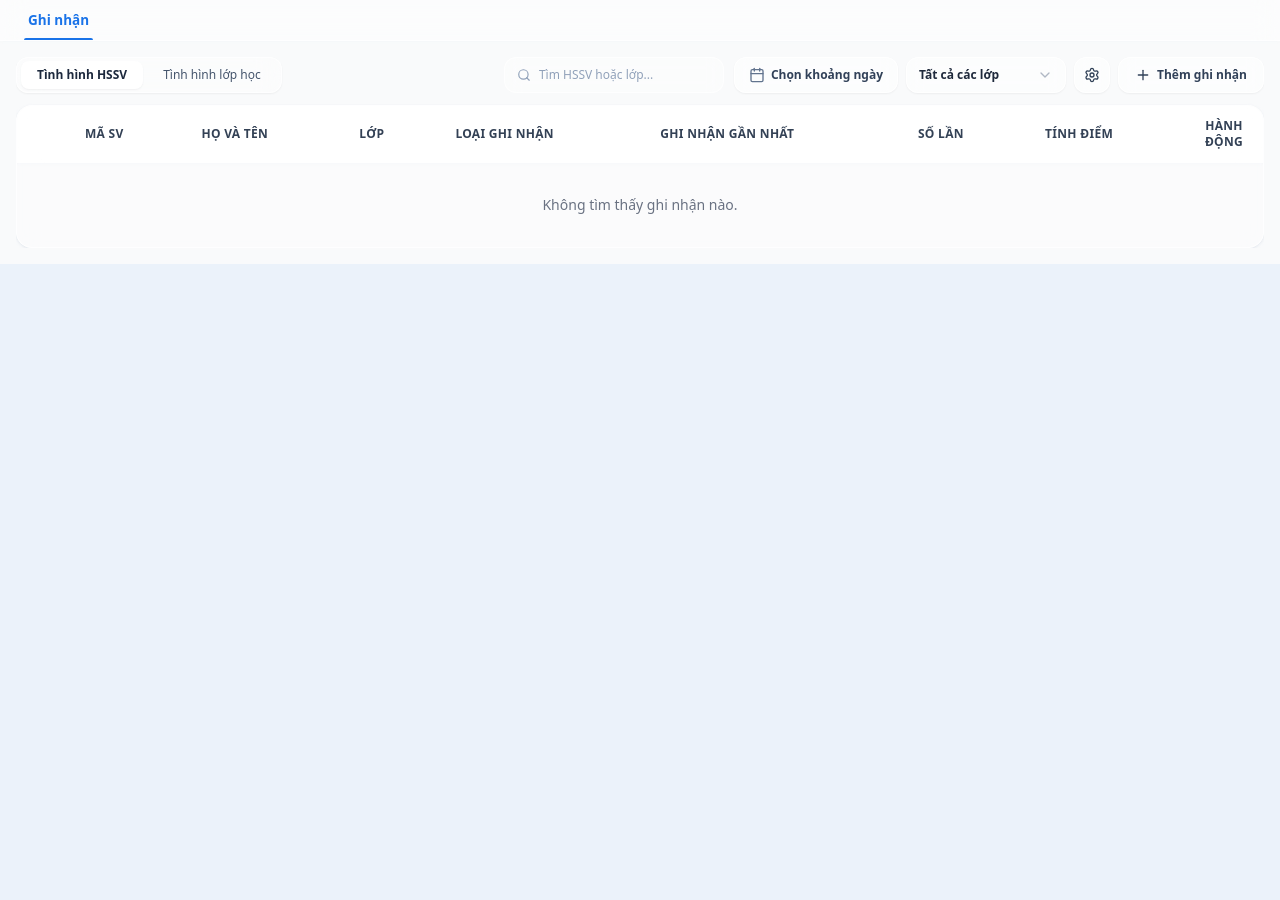
Scenario: StudentRecordPage Infinite Scroll › does not render the purge utility in the configuration modal
This screenshot has width=1280, height=900.
Click the button titled "Cấu hình tiêu chí vắng mặt": x=1092, y=75 [1074,57,1110,93]
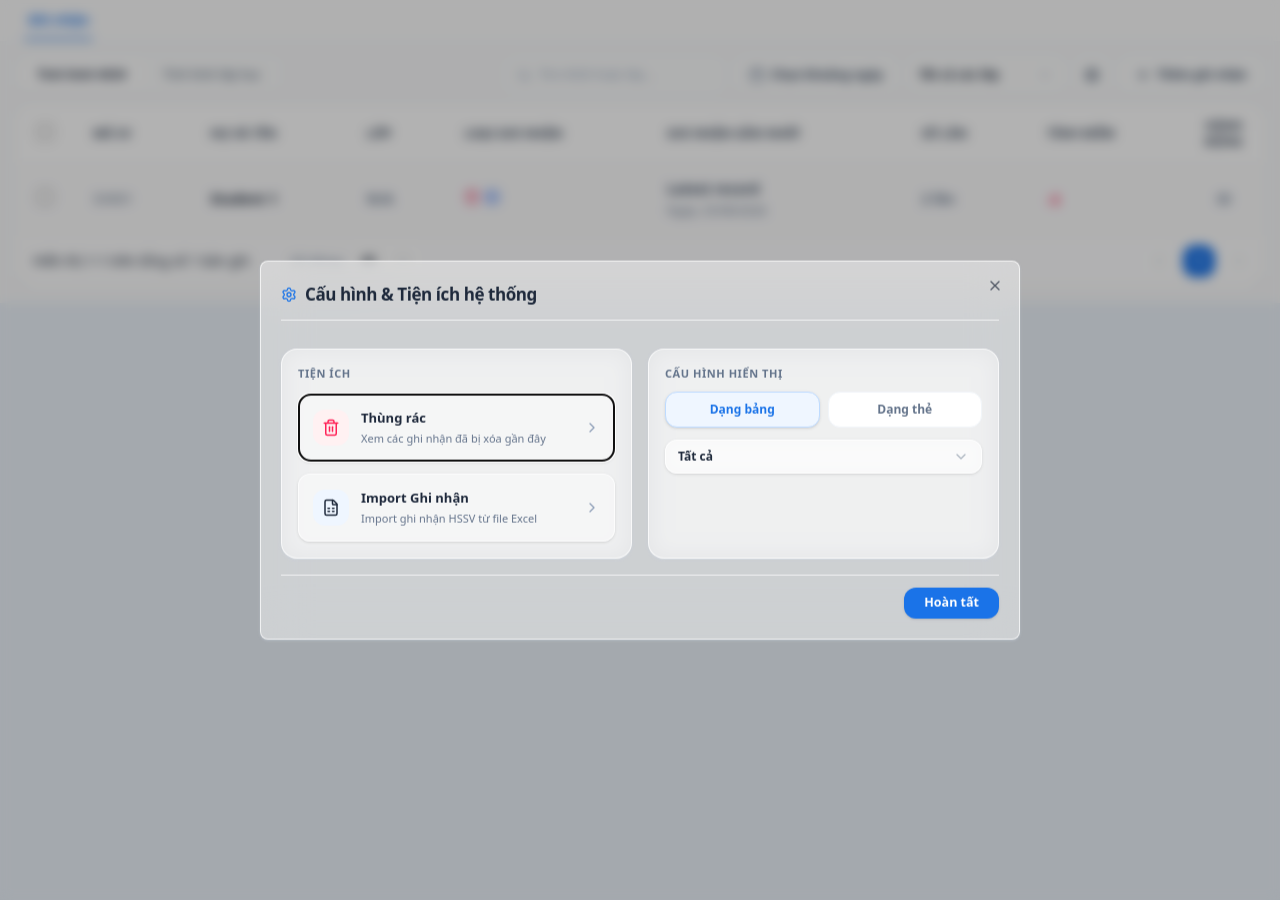
Result: the heading "Cấu hình & Tiện ích hệ thống" is shown at [281,282,999,320]
